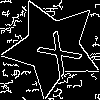X: (27, 22, 84, 78)
